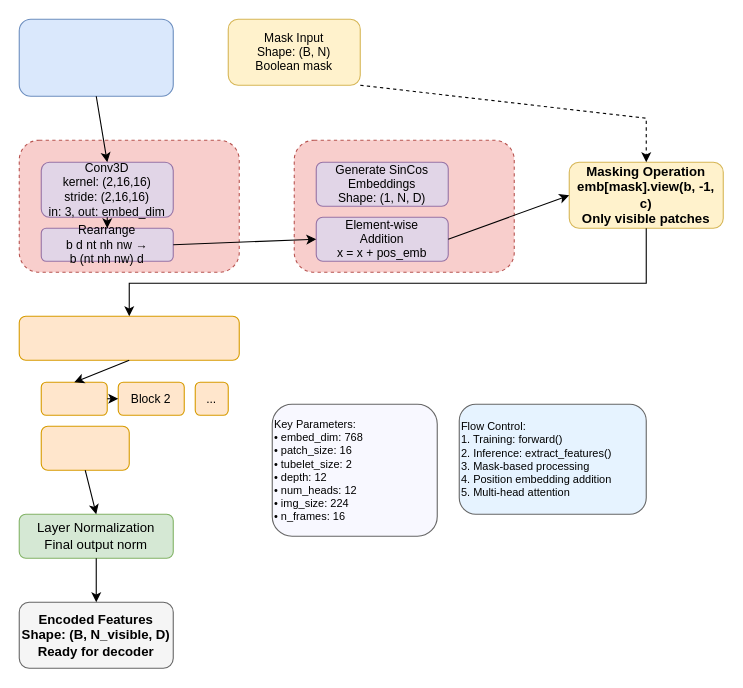
Image size: 743x688. Some labels were removed from this diagram. The box of each missing label's shape, as (x1, y1, x2, y2) in pixels:
3D Patch Embedding: (18, 139, 239, 272)
Block 1: (40, 381, 107, 415)
Block N (depth=12): (40, 425, 129, 470)
N × Transformer Blocks: (18, 315, 239, 360)
SinCos Positional Embedding: (293, 139, 514, 272)
Video Input Shape: (B, C, T, H, W) C=3, T=16, H=W=224: (18, 18, 173, 96)
